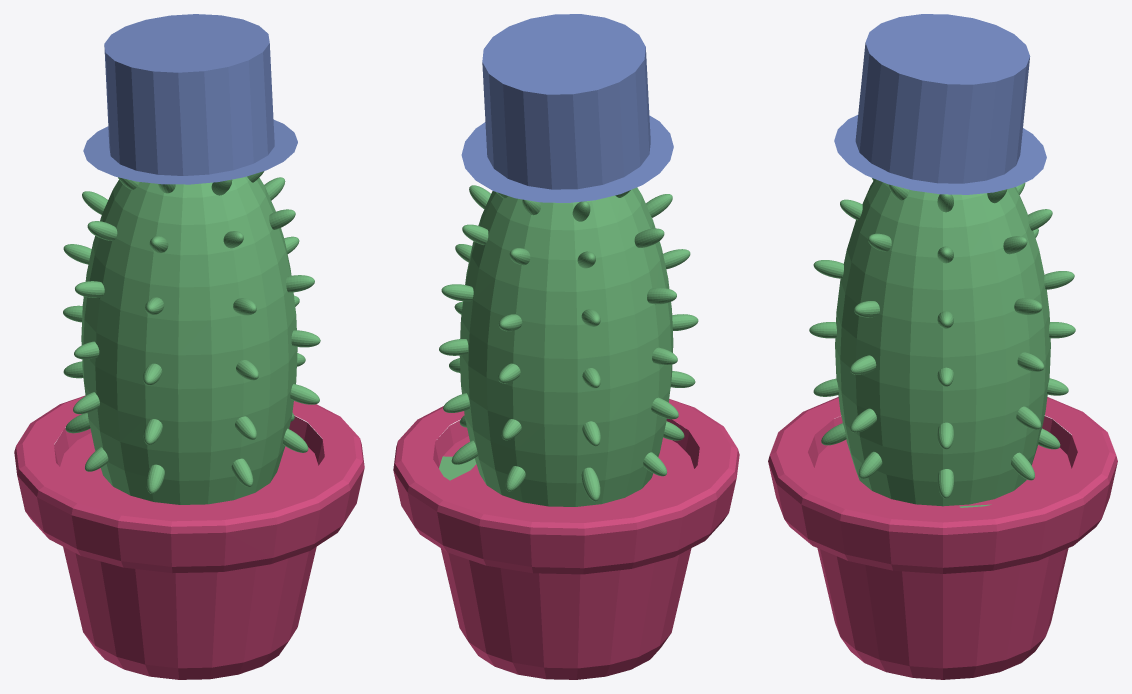
The model's file is full_14_coarse.glb.
The picture shows the model from 3 angles, left to right: view 1: azimuth 30°, elevation 25°; view 2: azimuth 150°, elevation 25°; view 3: azimuth 270°, elevation 25°; orthographic projection.
Visible parts, largest first — view 1: world; view 2: world; view 3: world.
Part boxes in pixels (box(x1,y1,x2,y2)): world: box(14, 14, 364, 679); world: box(393, 14, 739, 679); world: box(768, 14, 1117, 679).
Size of the model in its own units: 0.4221 by 0.8023 by 0.4221.
